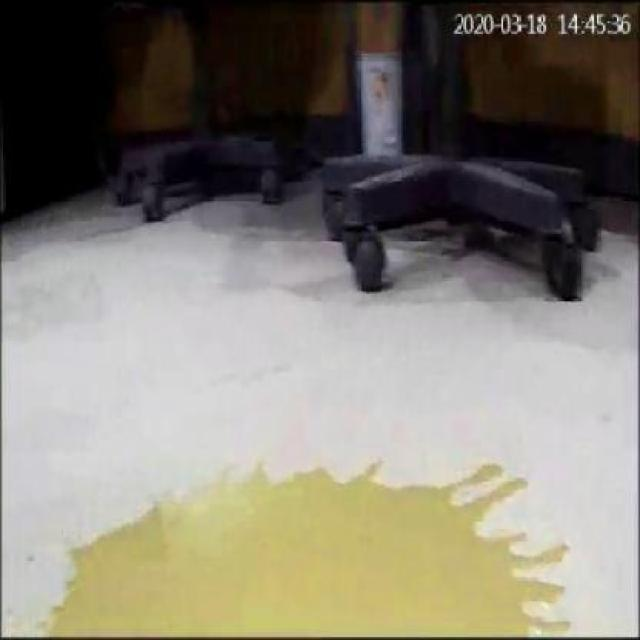spillage: (48, 464, 570, 638)
